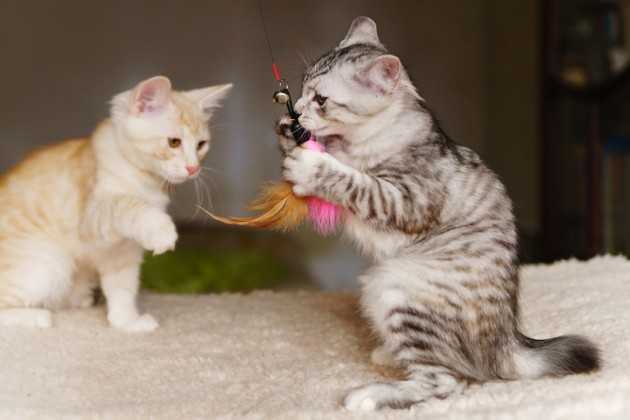cat: (265, 13, 610, 420), (1, 75, 238, 332)
cat-face: (283, 14, 416, 141), (106, 74, 234, 185)
